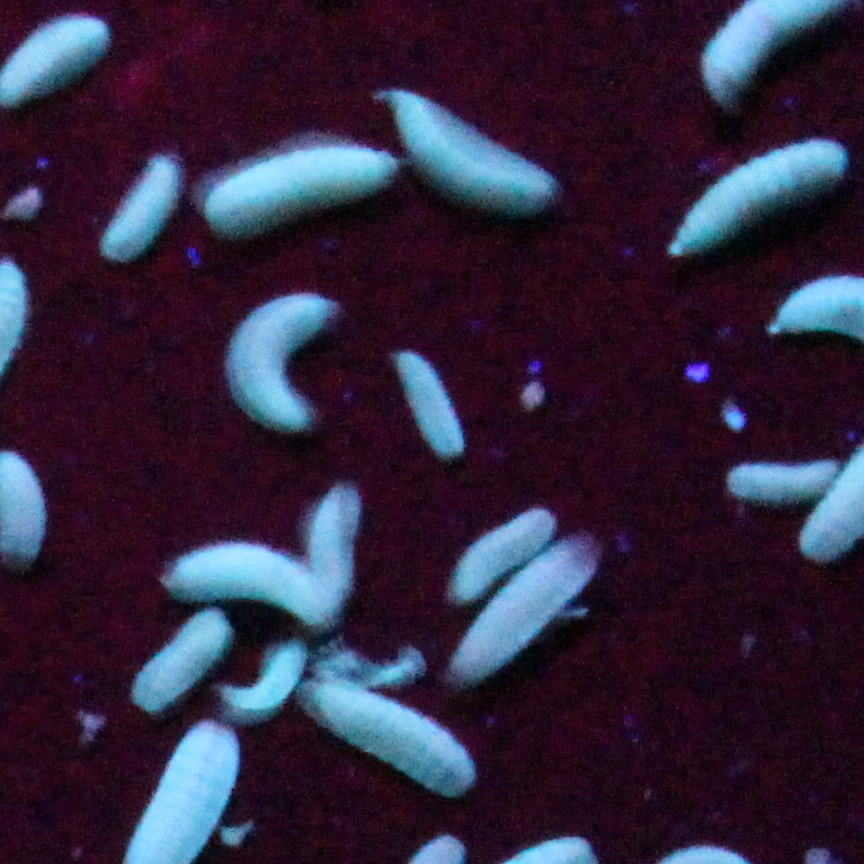larve: (305, 664, 469, 806), (395, 83, 566, 212), (459, 541, 599, 688), (205, 138, 405, 238), (672, 141, 846, 248), (166, 532, 340, 622), (239, 294, 326, 434), (98, 158, 182, 267), (127, 616, 227, 706), (399, 334, 466, 468), (305, 477, 366, 600), (237, 651, 305, 716), (737, 461, 831, 506)
